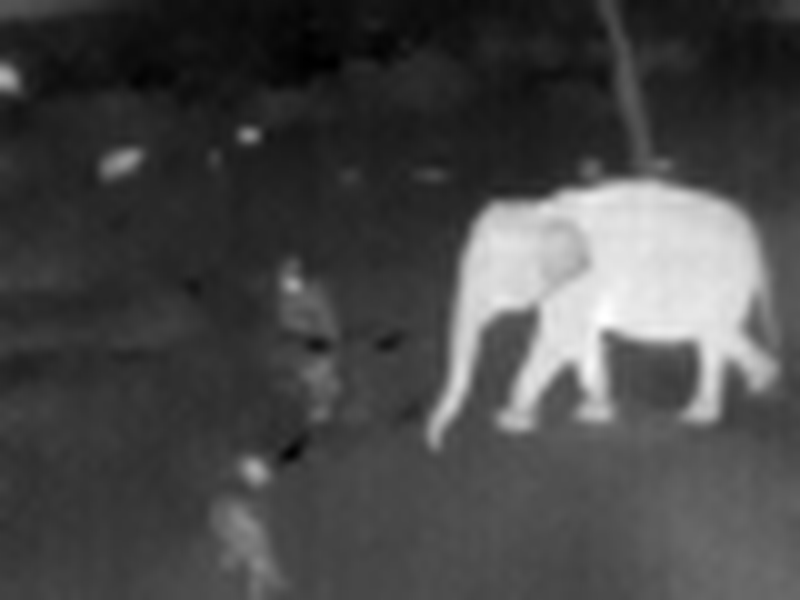elephant: (424, 174, 772, 439)
